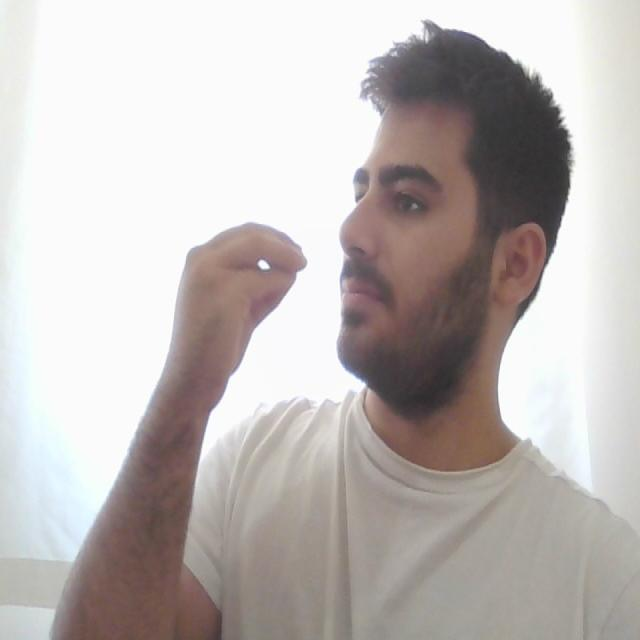Yemek: (168, 221, 394, 339)
